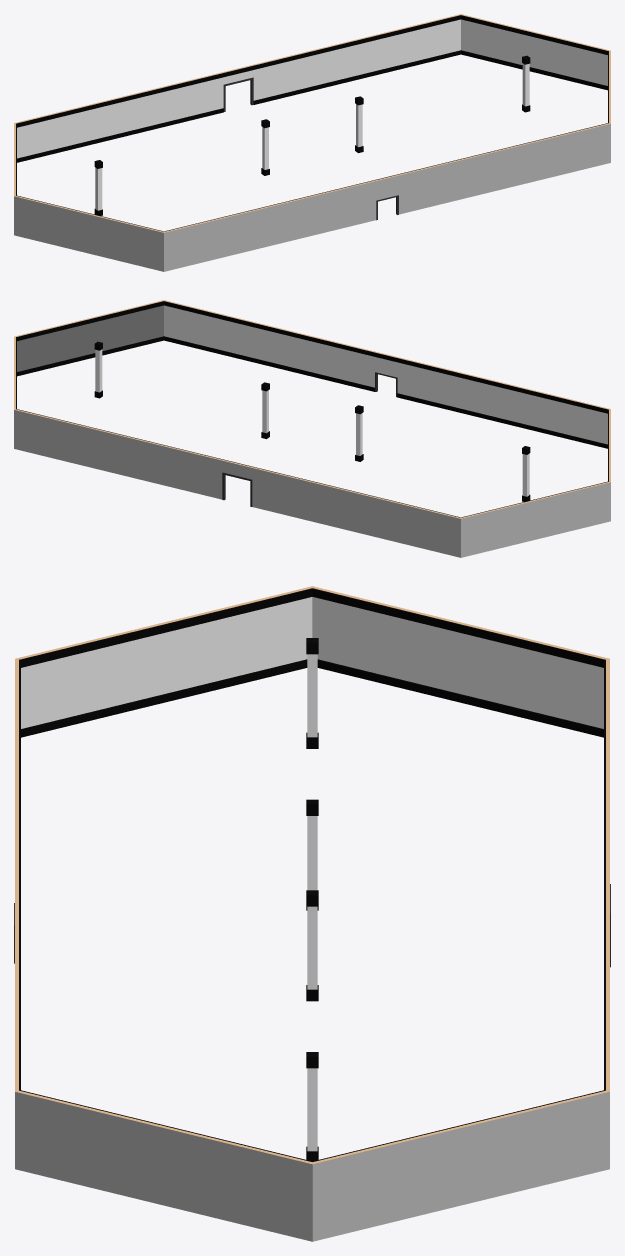
Rendered from Paredes_Lobby_PrimeiroAndar.gltf.
3 renders of one model, top to bottom at view 1: azimuth 30°, elevation 25°; view 2: azimuth 150°, elevation 25°; view 3: azimuth 270°, elevation 25°, orthographic. The views are drawn at different scales.
Parts seen in each view (by area): view 1: Cube.003; view 2: Cube.003; view 3: Cube.003.
Boxes of the visible parts, x1=… form: Cube.003: x1=14, y1=14, x2=610, y2=271; Cube.003: x1=14, y1=300, x2=610, y2=557; Cube.003: x1=14, y1=586, x2=610, y2=1241.
Bounding box in the file's own units: 79.98 × 6.83 × 34.9.
1 material, 1 textured.
